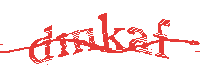a: (128, 26, 151, 55)
d: (28, 24, 54, 62)
f: (153, 18, 170, 61)
k: (97, 12, 125, 52)
m: (56, 28, 99, 56)
